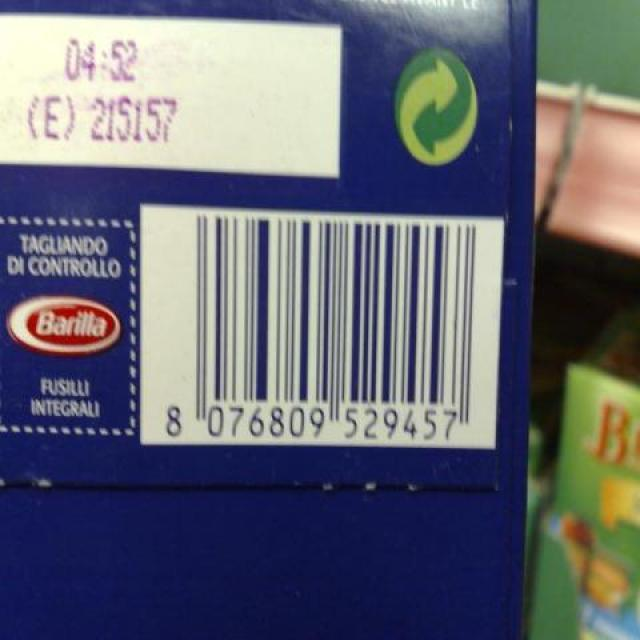Barcode: (140, 205, 503, 451)
